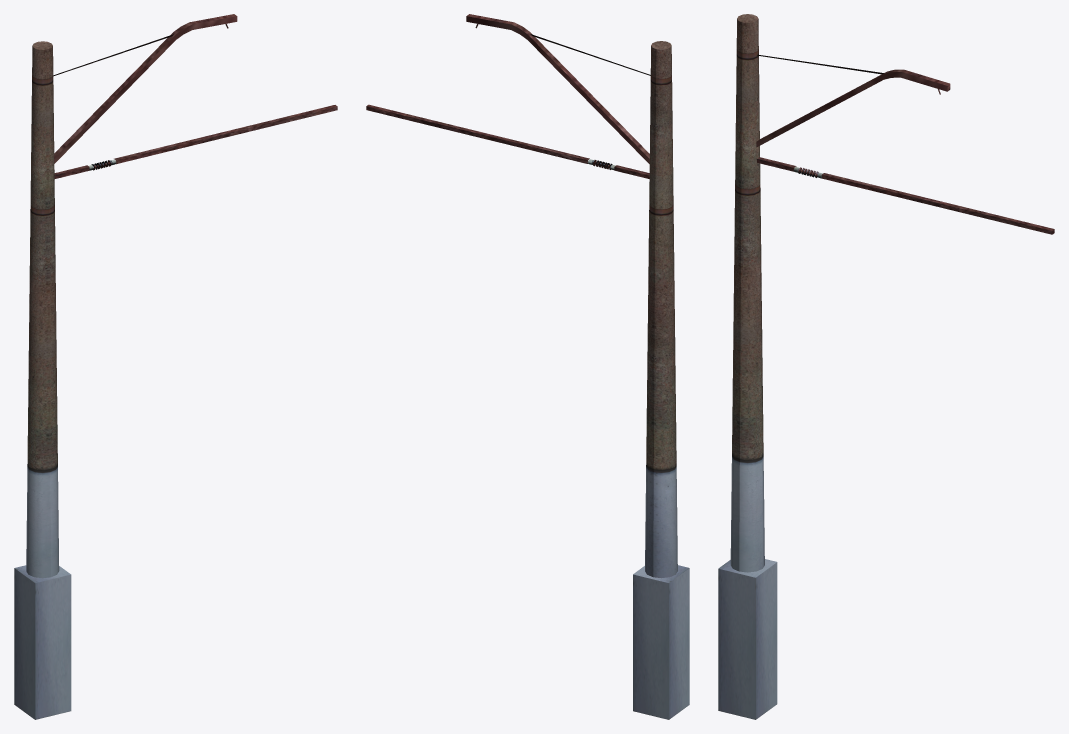
File: opk1l6.gltf
3 renders of one model, left to right at view 1: azimuth 30°, elevation 25°; view 2: azimuth 150°, elevation 25°; view 3: azimuth 330°, elevation 25°, orthographic. The views are drawn at different scales.
Bounding box in the file's own units: 5.79 × 11.76 × 0.67.
Materials: 1 (1 with a texture image).
